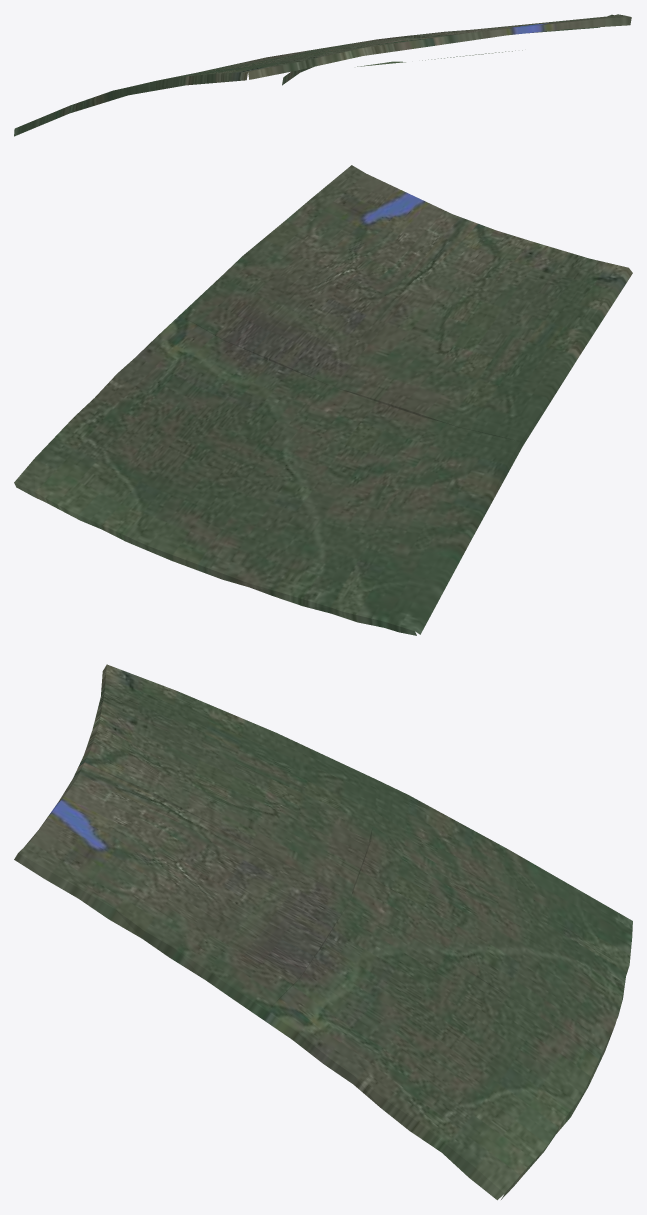
3 views of the same model, one above another, from view 1: azimuth 30°, elevation 25°; view 2: azimuth 150°, elevation 25°; view 3: azimuth 270°, elevation 25° (orthographic). The views are drawn at different scales.
Size of the model in its own units: 1376285 by 616918 by 1306208.
1 material, 1 textured.
